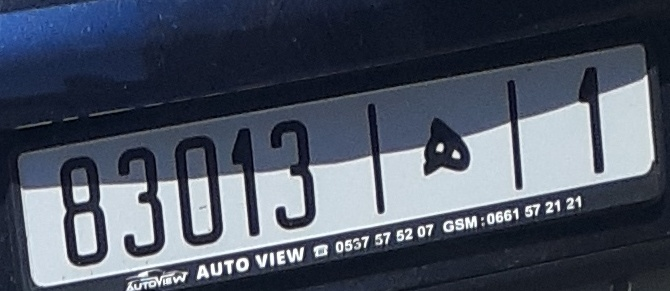0: (171, 128, 227, 253)
1: (561, 65, 629, 173), (229, 121, 270, 241)
3: (269, 111, 321, 238), (114, 141, 165, 265)
8: (53, 155, 111, 270)
h: (405, 105, 489, 183)
